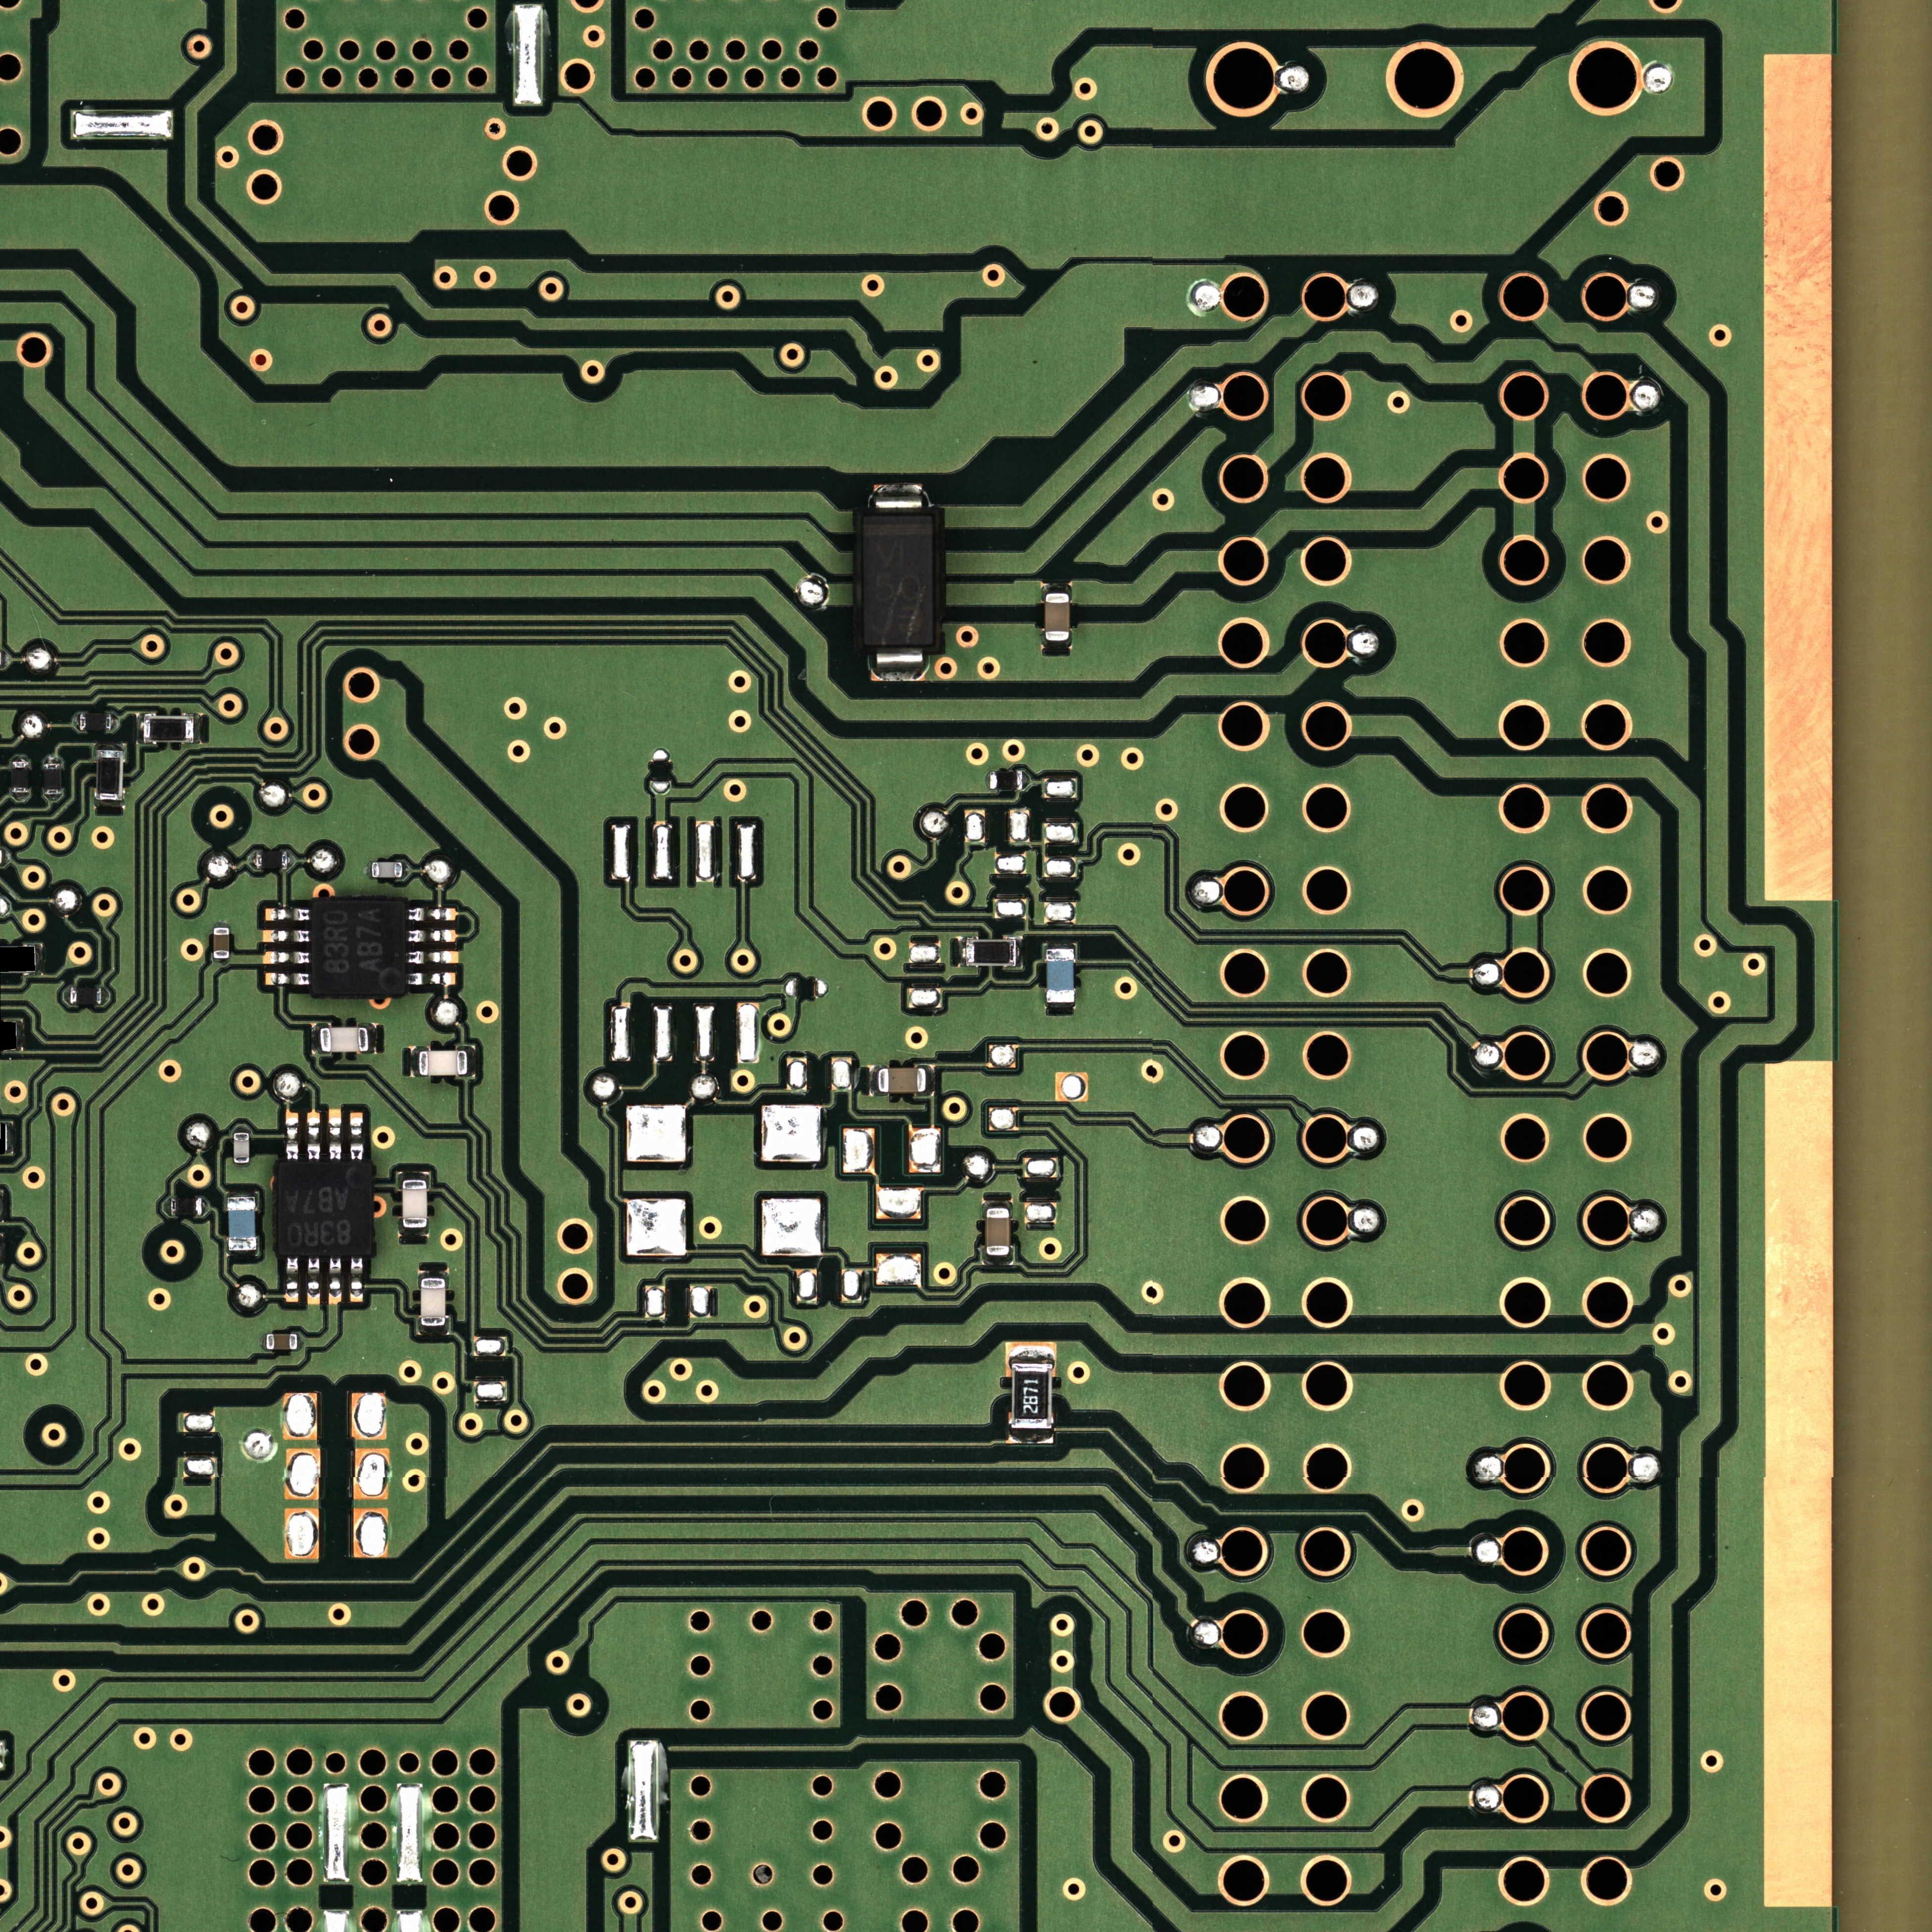Package: (863, 515, 934, 646), (311, 901, 407, 994), (278, 1162, 372, 1256), (1010, 1364, 1053, 1428), (1046, 950, 1074, 1003), (228, 1198, 255, 1251), (966, 939, 1016, 966), (143, 717, 193, 741), (97, 750, 122, 800), (320, 1028, 368, 1053), (421, 1277, 446, 1325), (878, 1069, 925, 1093), (419, 1051, 467, 1076), (985, 1208, 1010, 1256), (403, 1180, 426, 1228), (1046, 593, 1069, 640), (80, 713, 111, 731), (991, 771, 1023, 789), (170, 1198, 202, 1215), (44, 764, 62, 794), (257, 851, 287, 869), (71, 987, 101, 1005), (12, 761, 28, 793), (372, 862, 402, 878), (214, 929, 230, 959), (267, 1334, 297, 1350), (234, 1132, 249, 1162)
Solder: (870, 646, 927, 681), (872, 483, 924, 515), (1007, 1341, 1056, 1362), (264, 971, 310, 987), (407, 950, 458, 964), (306, 1109, 320, 1161), (407, 908, 456, 922), (407, 971, 456, 985), (285, 1111, 299, 1161), (306, 1256, 320, 1306), (409, 929, 456, 943), (285, 1256, 299, 1304), (264, 950, 310, 964), (264, 929, 310, 943), (1008, 1430, 1054, 1444), (329, 1109, 341, 1161), (265, 908, 310, 922), (350, 1111, 363, 1161), (329, 1258, 341, 1304), (350, 1258, 363, 1302), (418, 1325, 449, 1336), (925, 1065, 936, 1095), (1042, 582, 1072, 593), (18, 1019, 27, 1053), (7, 1122, 16, 1155), (368, 1023, 377, 1054), (467, 1046, 476, 1077), (957, 936, 966, 968), (982, 1256, 1014, 1265), (35, 943, 44, 975), (193, 713, 202, 743), (311, 1024, 320, 1054), (398, 1171, 428, 1180), (398, 1228, 428, 1237), (410, 1047, 419, 1077), (226, 1187, 257, 1196), (869, 1065, 878, 1095), (1042, 640, 1072, 649), (1016, 938, 1024, 968), (982, 1200, 1012, 1208), (96, 741, 124, 750), (226, 1251, 258, 1258), (96, 800, 124, 807), (136, 715, 143, 743), (419, 1270, 448, 1277), (11, 793, 30, 801), (258, 1332, 267, 1352), (297, 1332, 306, 1352), (1044, 943, 1076, 948), (1046, 1003, 1076, 1008), (163, 1198, 172, 1215), (101, 987, 110, 1005), (111, 715, 120, 731), (42, 794, 62, 801), (363, 860, 370, 879), (212, 920, 232, 927), (288, 851, 295, 869), (12, 754, 30, 761), (44, 755, 62, 763), (214, 959, 232, 966), (403, 862, 410, 879), (64, 987, 71, 1005), (202, 1198, 209, 1215), (1023, 771, 1030, 789), (984, 771, 991, 789), (248, 853, 255, 869), (73, 713, 80, 729), (234, 1125, 249, 1132), (234, 1162, 249, 1169)
